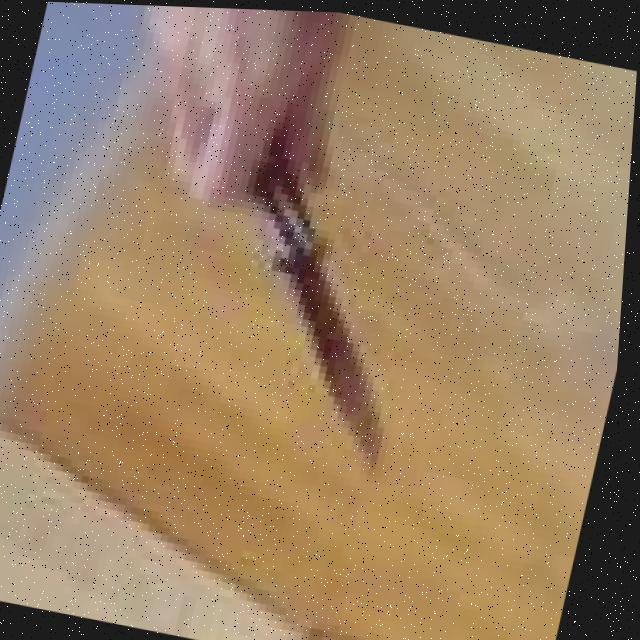knife: (214, 167, 443, 466)
